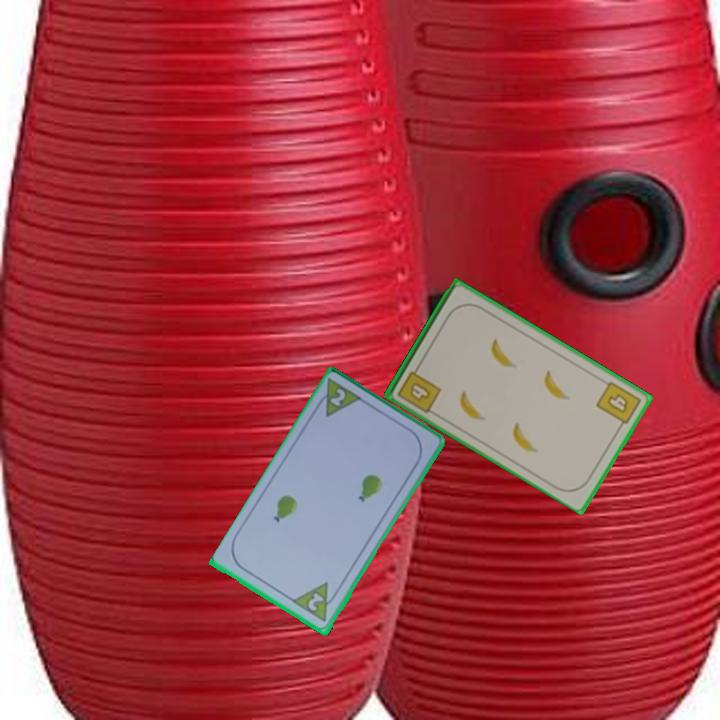2p: (304, 590, 327, 615), (326, 385, 349, 410)
4b: (593, 378, 644, 432), (394, 361, 444, 416)
